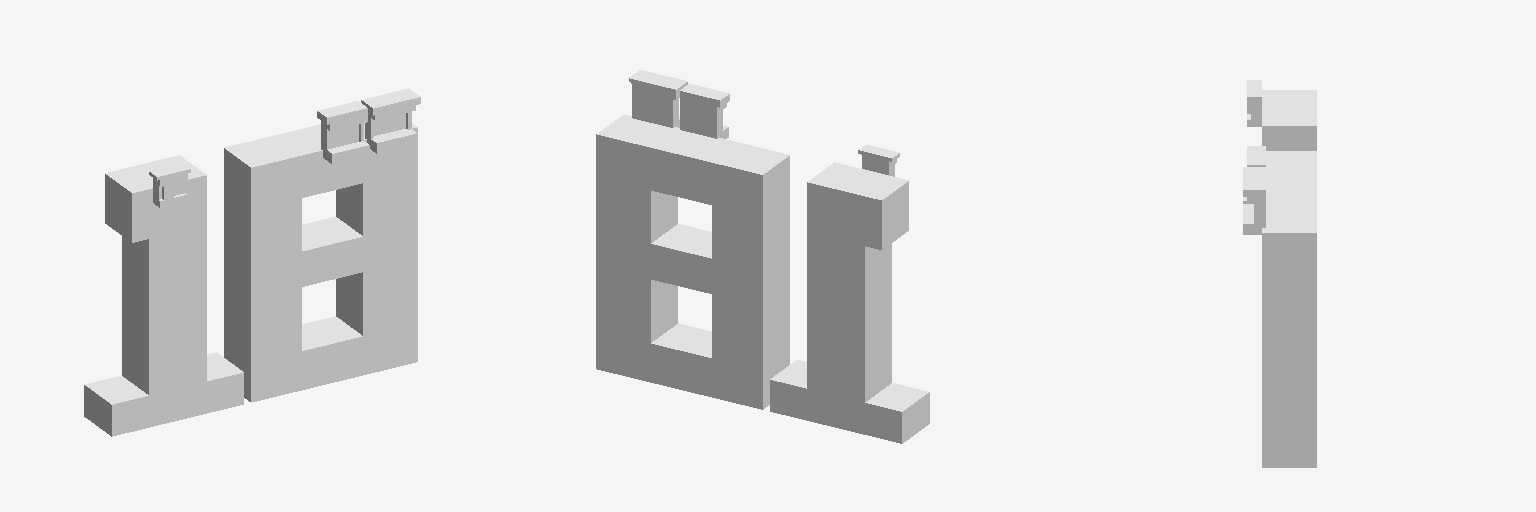
File: dieciocho.obj
3 renders of one model, left to right at view 1: azimuth 30°, elevation 25°; view 2: azimuth 150°, elevation 25°; view 3: azimuth 270°, elevation 25°, orthographic.
Visible parts, largest first — view 1: object 1; view 2: object 1; view 3: object 1.
Part boxes in pixels (bbox=[...]): object 1: bbox=[84, 88, 420, 436]; object 1: bbox=[596, 70, 929, 443]; object 1: bbox=[1243, 80, 1316, 467].
Size of the model in its own units: 9 by 7.7 by 1.9.